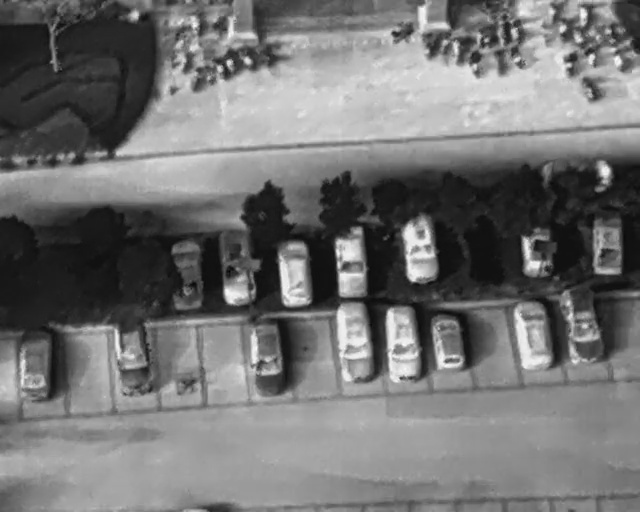Bicycle: (388, 14, 417, 42), (232, 46, 256, 71), (507, 43, 527, 71), (579, 73, 597, 103), (610, 45, 627, 73), (496, 12, 509, 48), (598, 23, 617, 45), (467, 50, 481, 78), (509, 16, 522, 45), (480, 17, 492, 47), (569, 27, 585, 49), (494, 48, 506, 76), (222, 52, 236, 76), (191, 63, 203, 90), (562, 52, 574, 78), (547, 0, 559, 25), (585, 43, 597, 68), (213, 57, 226, 80), (423, 31, 434, 58), (451, 36, 461, 65), (579, 1, 589, 29), (441, 34, 450, 65), (190, 10, 200, 37), (558, 18, 568, 45), (204, 63, 215, 86), (589, 25, 602, 43), (475, 26, 484, 51)
Car: (552, 282, 610, 371), (215, 221, 261, 309), (382, 300, 427, 386), (332, 299, 378, 383), (508, 297, 558, 373), (395, 209, 441, 284), (109, 317, 153, 395), (15, 327, 54, 403), (332, 226, 369, 300), (427, 310, 469, 374), (248, 318, 282, 397), (170, 238, 204, 313), (276, 240, 313, 308), (592, 208, 625, 279), (519, 221, 554, 278)
